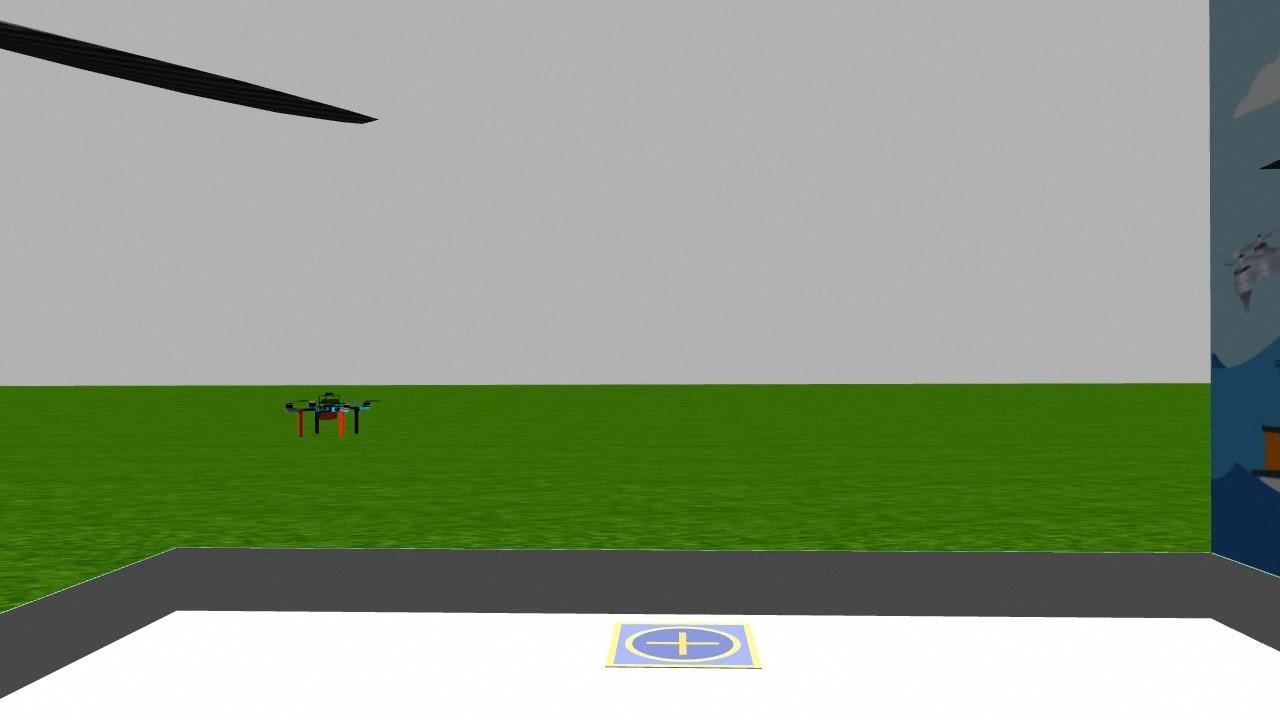UAV: (276, 364, 371, 446)
